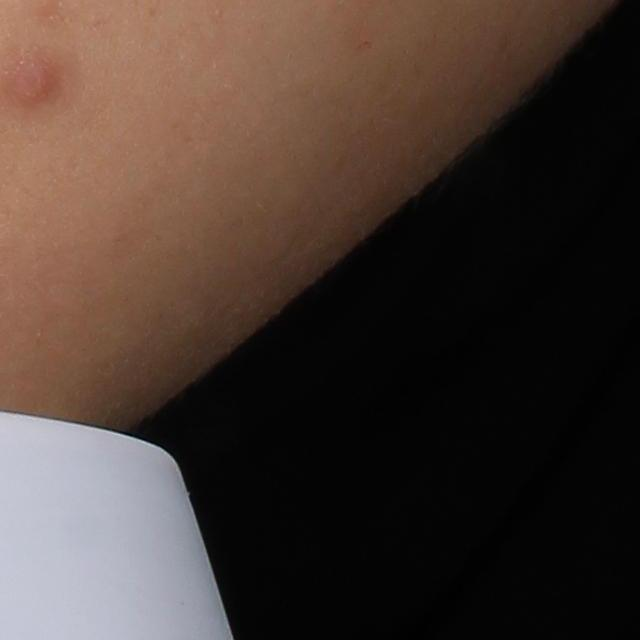papule: (10, 58, 68, 107)
